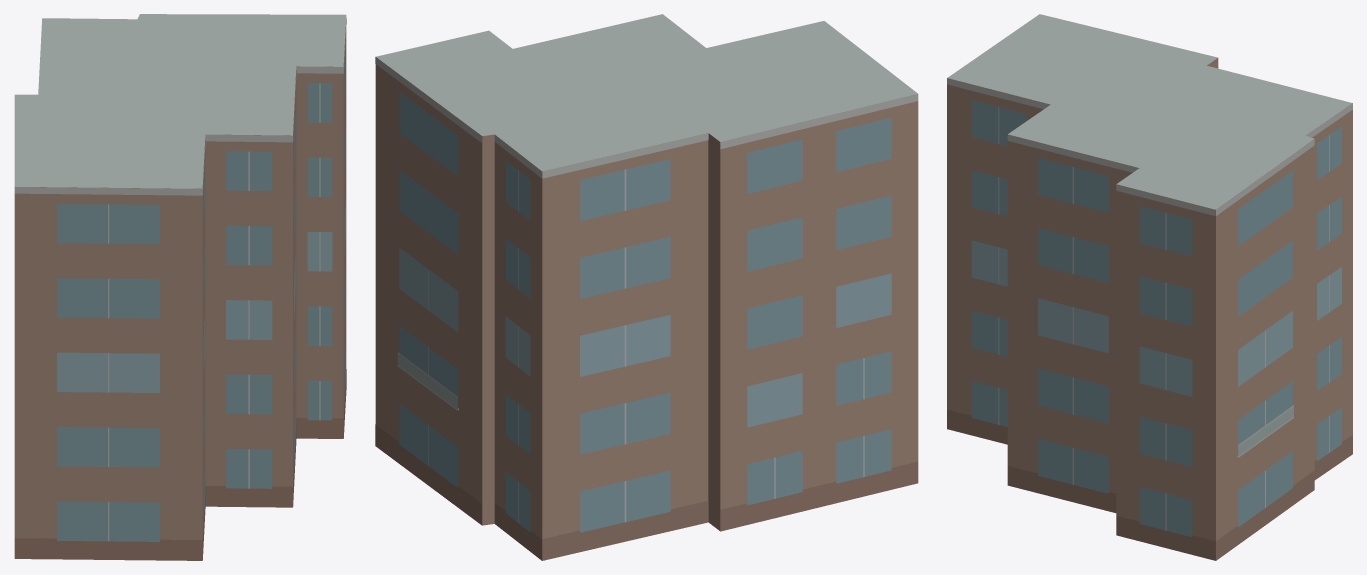
The model's file is survey-upis-32811328.glb.
3 renders of one model, left to right at view 1: azimuth 30°, elevation 25°; view 2: azimuth 150°, elevation 25°; view 3: azimuth 270°, elevation 25°, orthographic. The views are drawn at different scales.
Parts seen in each view (by area): view 1: survey-upis-32811328.tmp; view 2: survey-upis-32811328.tmp; view 3: survey-upis-32811328.tmp.
Boxes of the visible parts, x1,y1,x2,y2 form: survey-upis-32811328.tmp: (14,14,346,560); survey-upis-32811328.tmp: (375,14,918,560); survey-upis-32811328.tmp: (947,14,1352,560).
Bounding box in the file's own units: 15.8 × 13.2 × 13.83.
